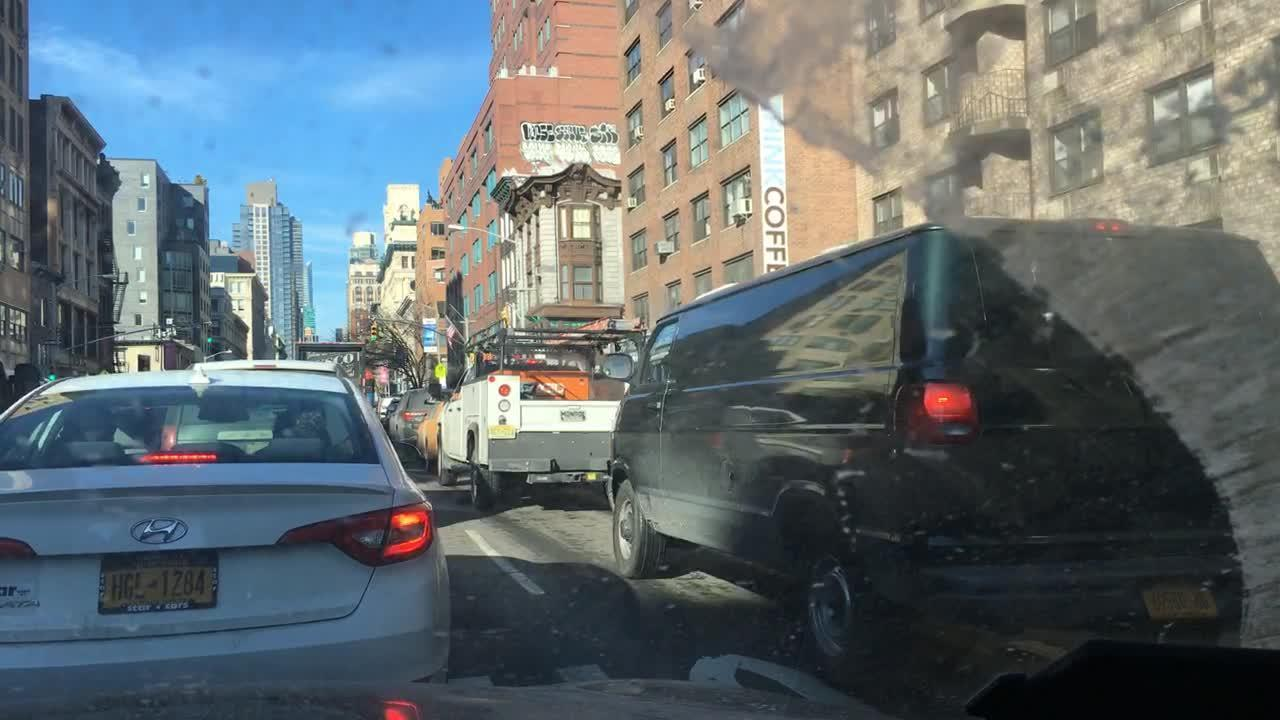Hyundai: (129, 513, 193, 549)
